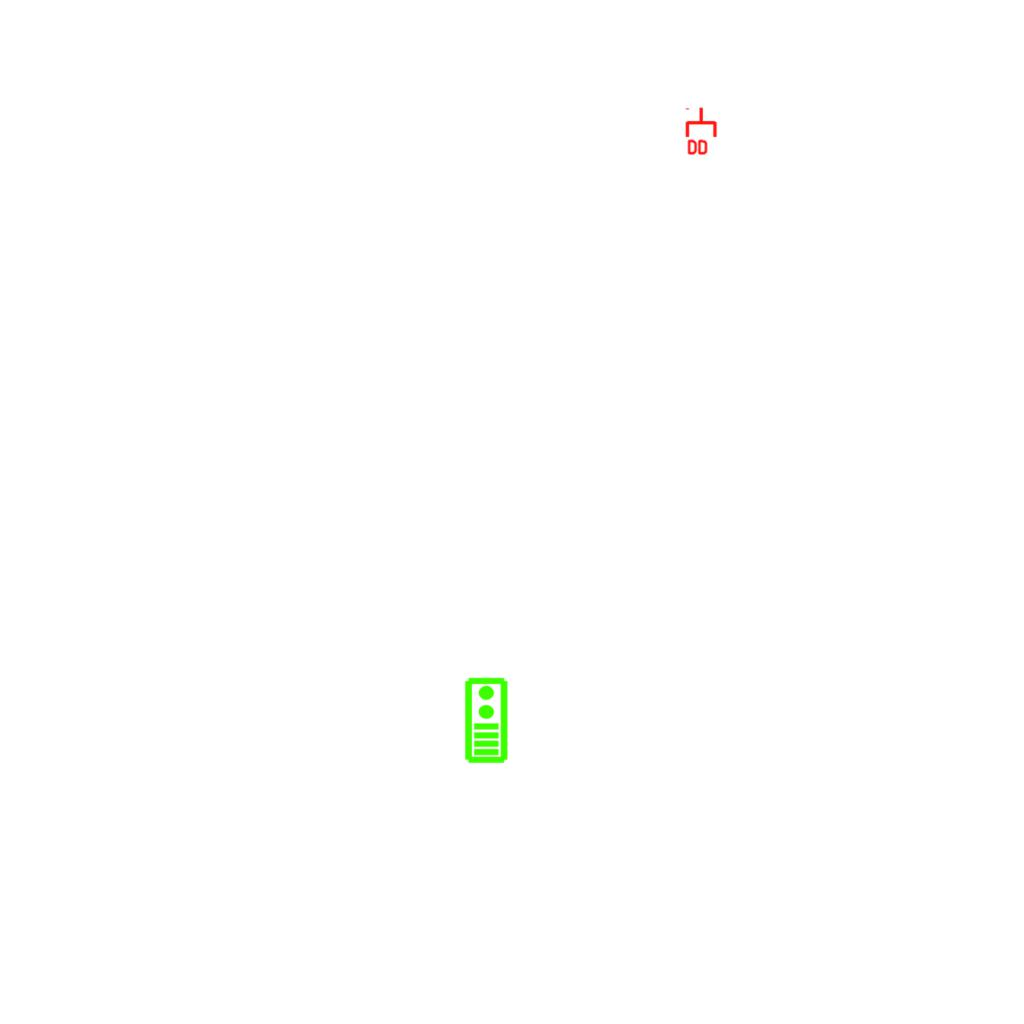Datenanschluss_zweifach: (685, 106, 719, 157)
Gegensprechanlage_mit_Video: (462, 676, 509, 764)
